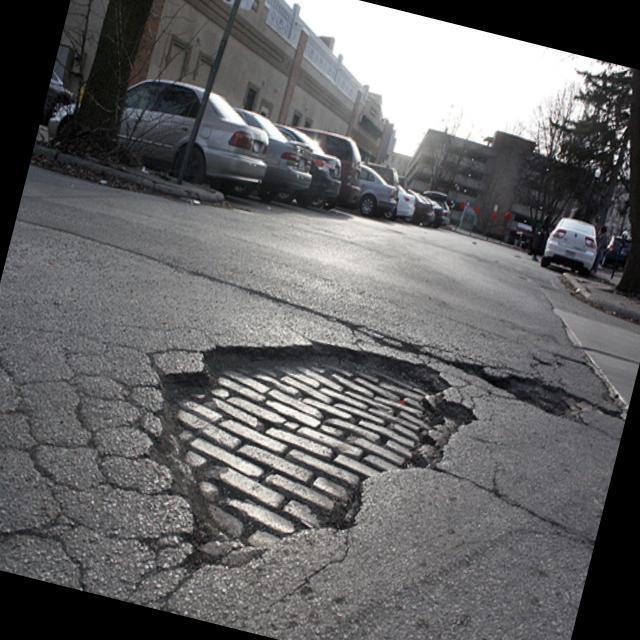Pothole: (109, 291, 479, 628), (486, 362, 580, 426)
